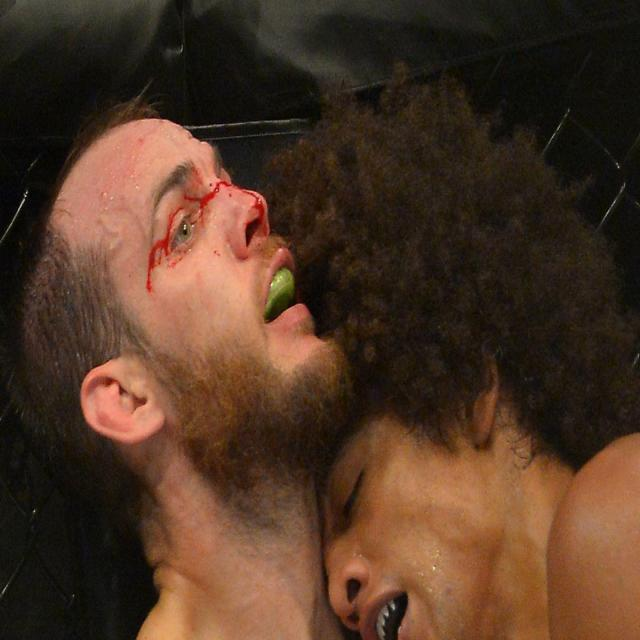flood: (185, 178, 278, 236), (146, 204, 183, 304)
